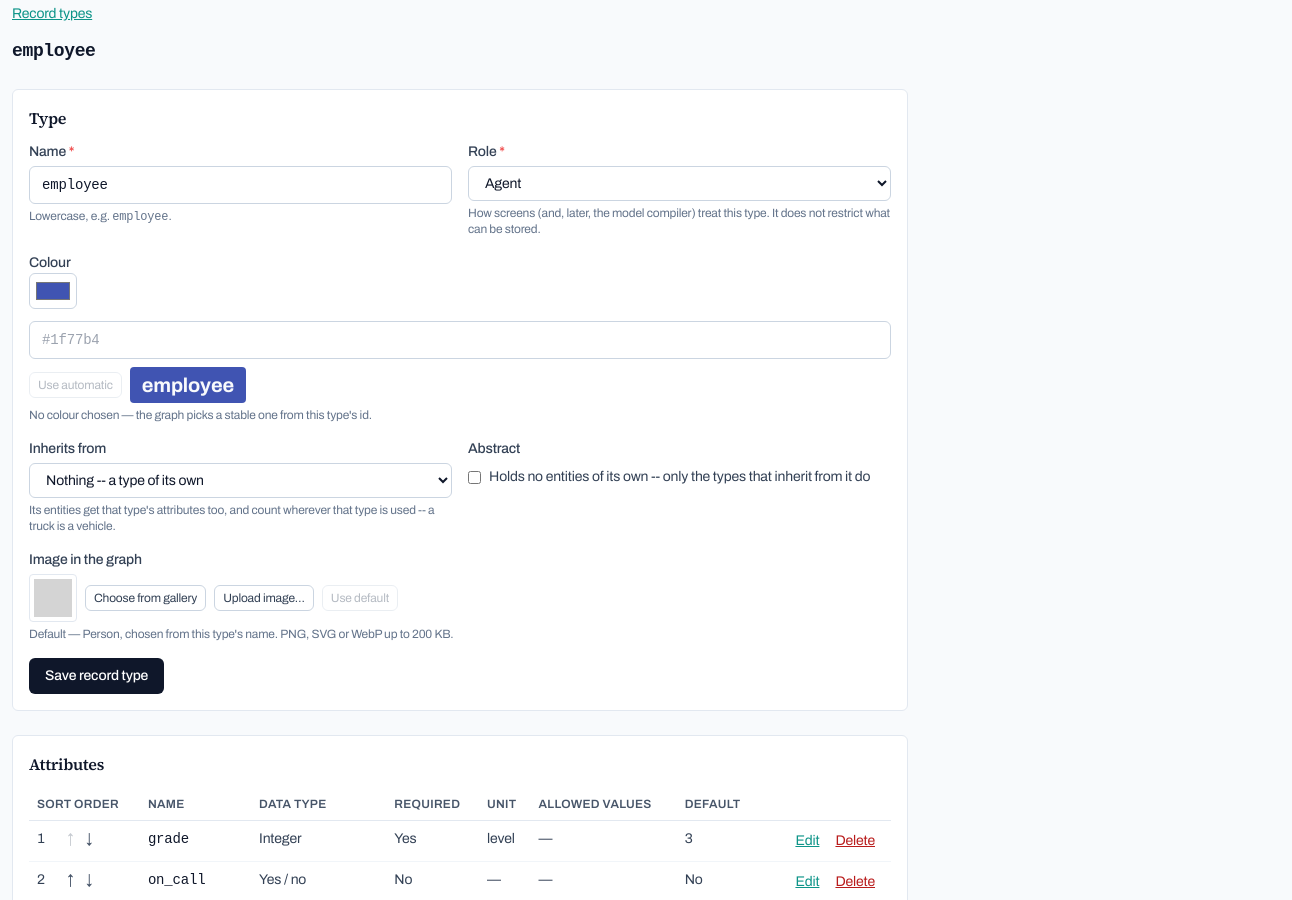
Test case: EntityTypeDetail › saves the type's own fields with PATCH and confirms with a toast
The image size is (1292, 900).
expect the heading "employee" is shown: met, box x1=11 y1=36 x2=112 y2=61
Replace the text in the field labelled "Name *" with "staff": (240, 185) x1=29 y1=166 x2=452 y2=204
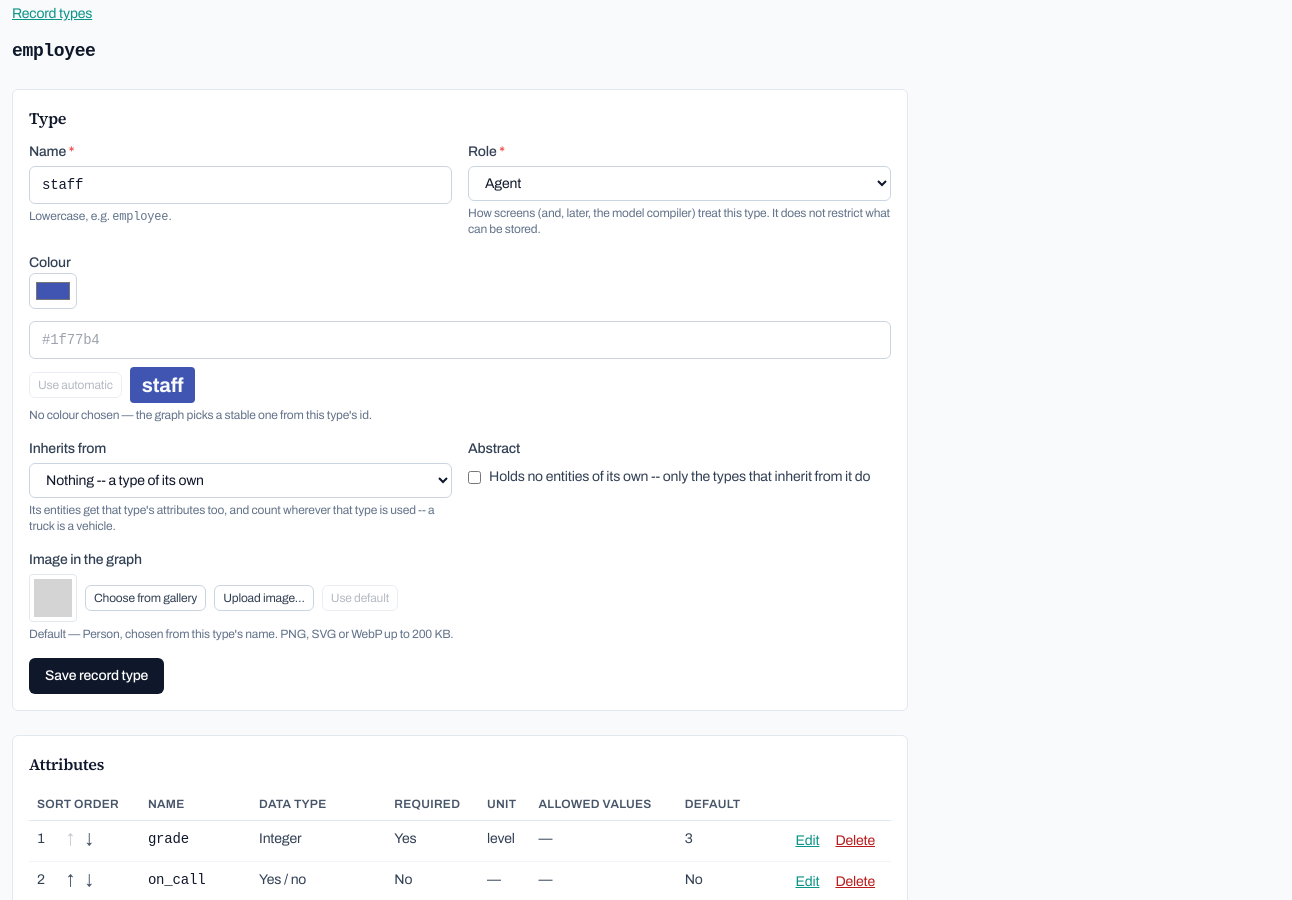
Select "Resource" in the dropdown labelled "Role *": (680, 184) x1=468 y1=166 x2=891 y2=201
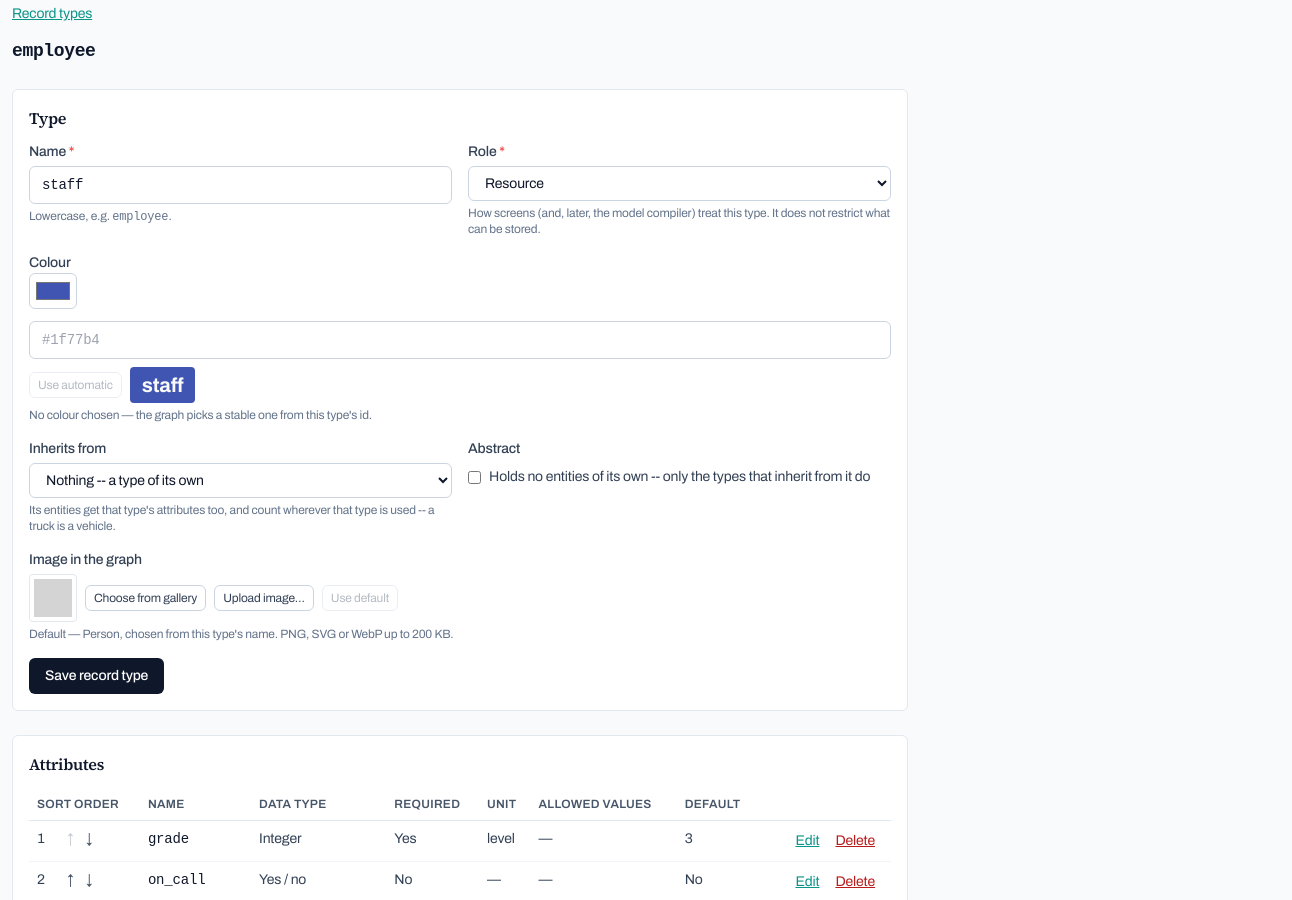
Click the button "Save record type": (97, 676) x1=29 y1=658 x2=164 y2=694
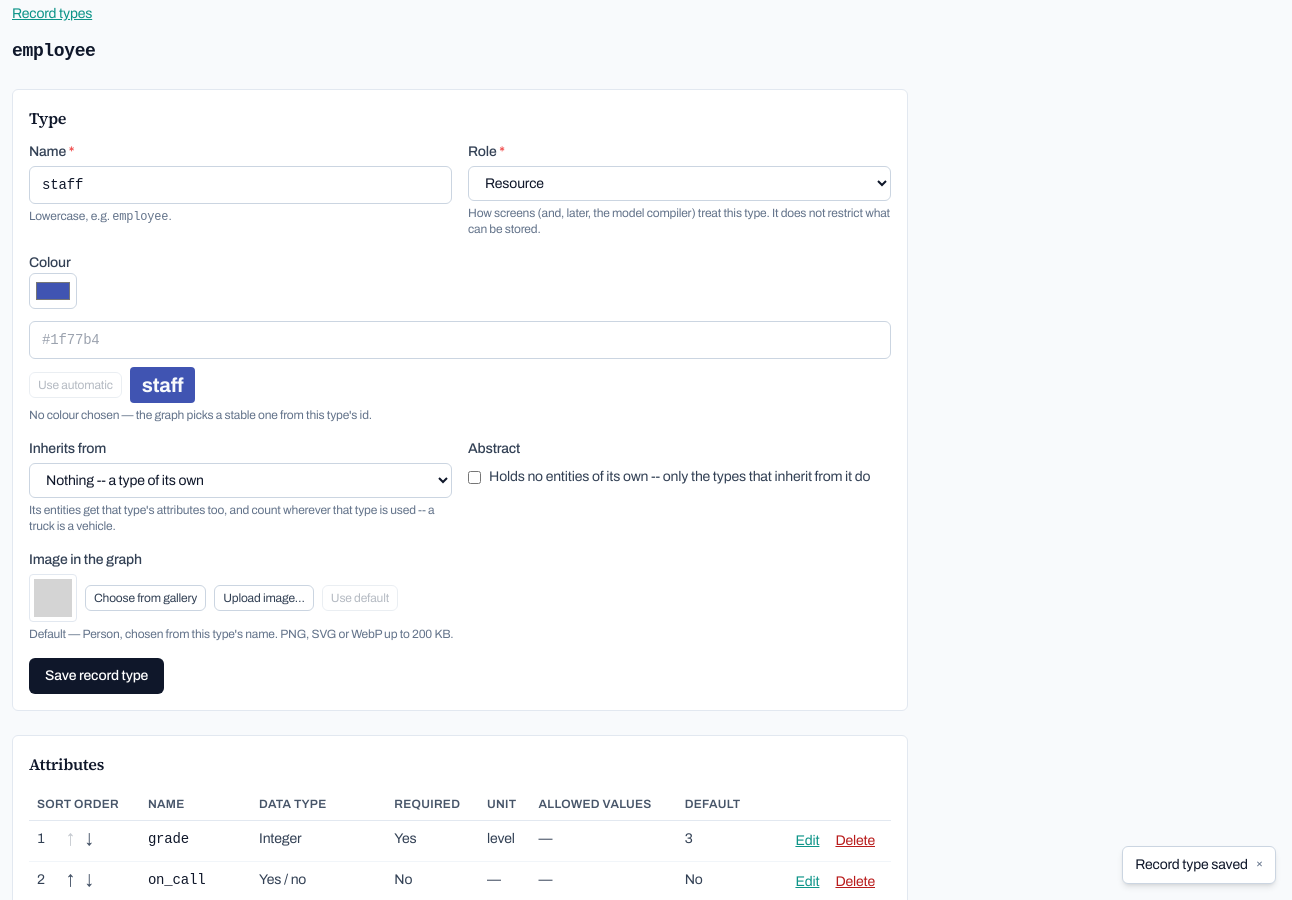
expect the message shows "Record type saved": met, box x1=1135 y1=857 x2=1248 y2=872
